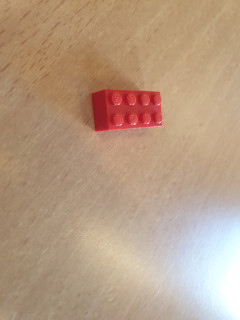2x4 red: (89, 88, 168, 132)
